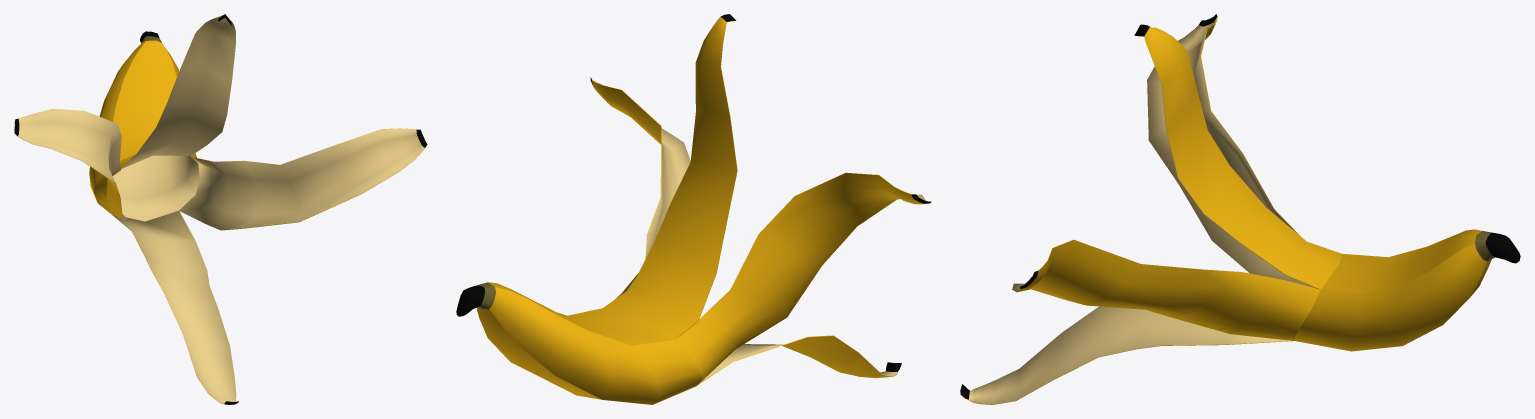
The model's file is Banana.fbx.
3 views of the same model, side by side, from view 1: azimuth 30°, elevation 25°; view 2: azimuth 150°, elevation 25°; view 3: azimuth 270°, elevation 25° (orthographic). The views are drawn at different scales.
Visible parts, largest first — view 1: Cube.002; view 2: Cube.002; view 3: Cube.002.
Part boxes in pixels (x1,y1,x2,y2): Cube.002: (14,14,427,404); Cube.002: (456,14,931,404); Cube.002: (960,14,1520,404).
Size of the model in its own units: 19.57 by 17.75 by 21.82.
